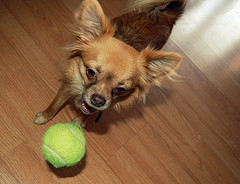tennis ball: (40, 120, 91, 171)
